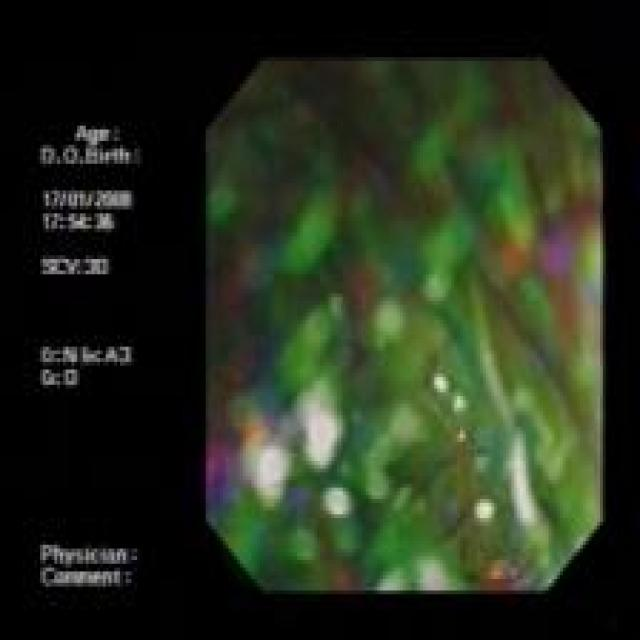color misalignment: (208, 60, 602, 591), (37, 118, 142, 591)
